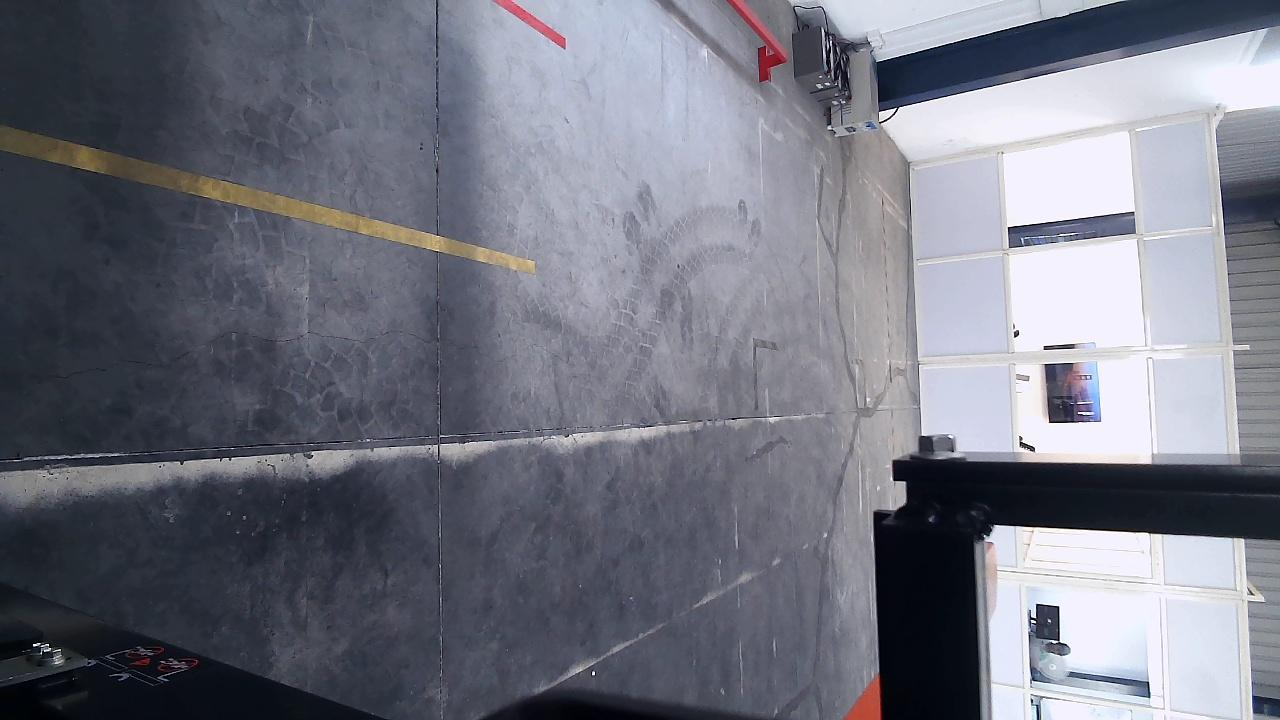yellow_line: (2, 128, 536, 271)
